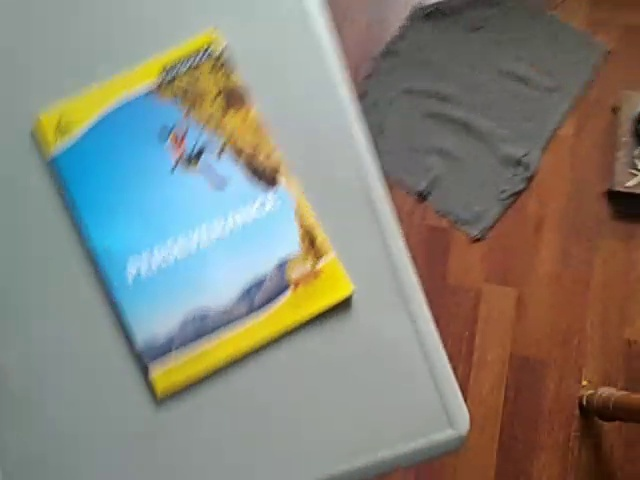Book: (30, 13, 378, 418)
